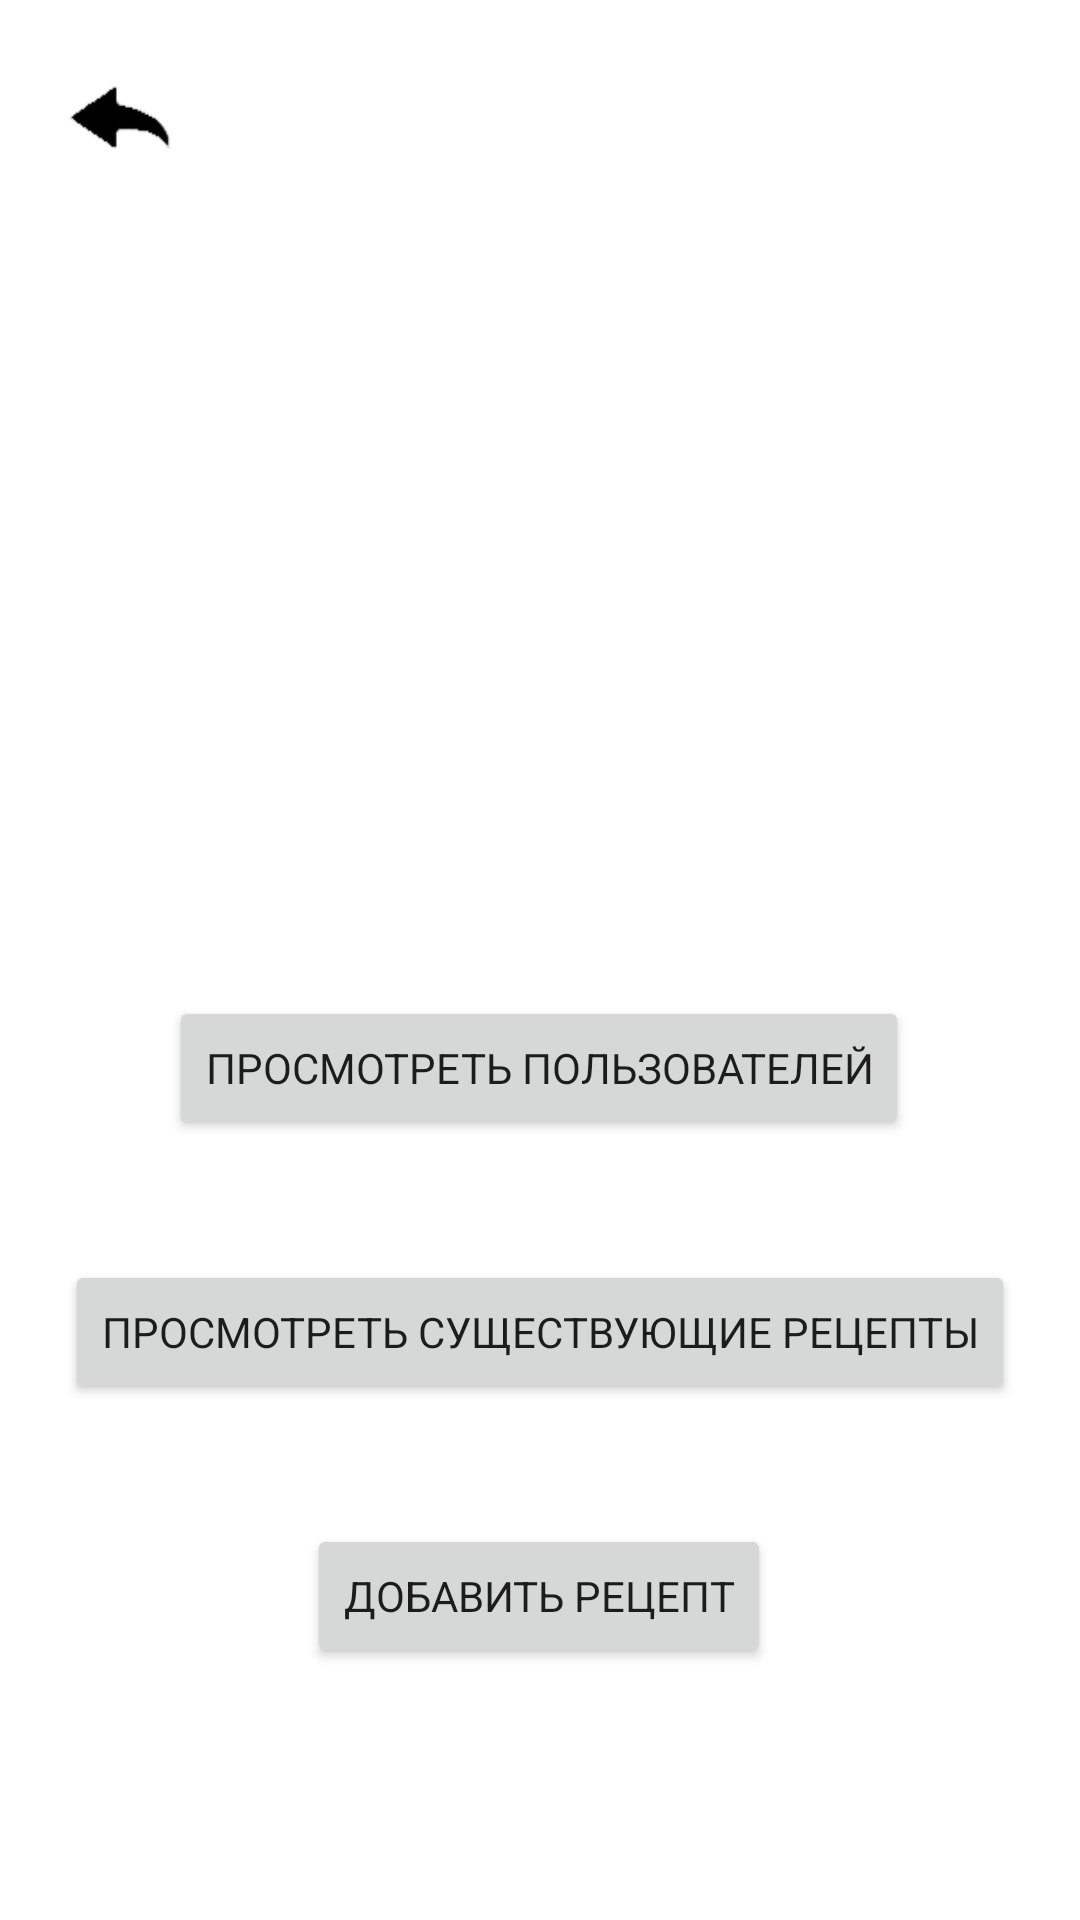

Screen size 1080*1920. Icon name, then its center in pixels as (x=x, y=y):
arrow back: (x=120, y=117)
